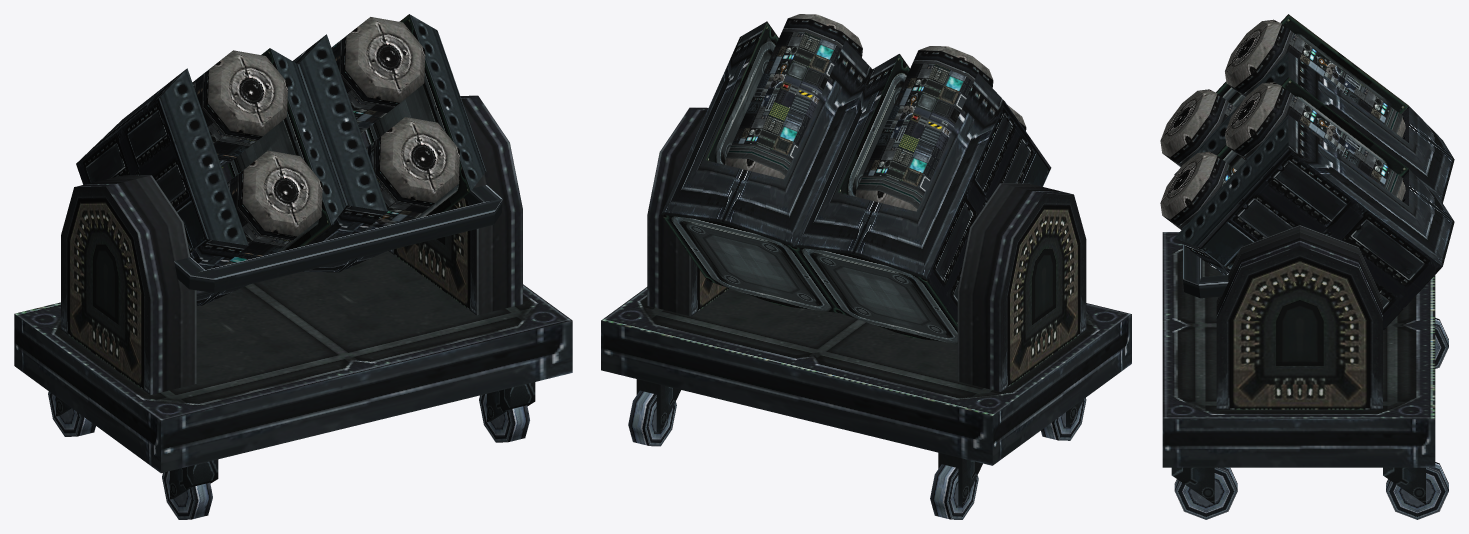
Rendered from Battery_large_01.FBX.
3 views of the same model, side by side, from view 1: azimuth 30°, elevation 25°; view 2: azimuth 150°, elevation 25°; view 3: azimuth 270°, elevation 25° (orthographic). The views are drawn at different scales.
Visible parts, largest first — view 1: Battery_large_01, Liquid; view 2: Battery_large_01, Liquid; view 3: Battery_large_01, Liquid.
Part boxes in pixels (x1=…): Battery_large_01: x1=14, y1=14, x2=572, y2=519; Liquid: x1=192, y1=25, x2=427, y2=265; Battery_large_01: x1=601, y1=14, x2=1131, y2=519; Liquid: x1=732, y1=31, x2=973, y2=193; Battery_large_01: x1=1160, y1=14, x2=1454, y2=519; Liquid: x1=1174, y1=33, x2=1390, y2=229.
Size of the model in its own units: 305 by 295 by 203.
